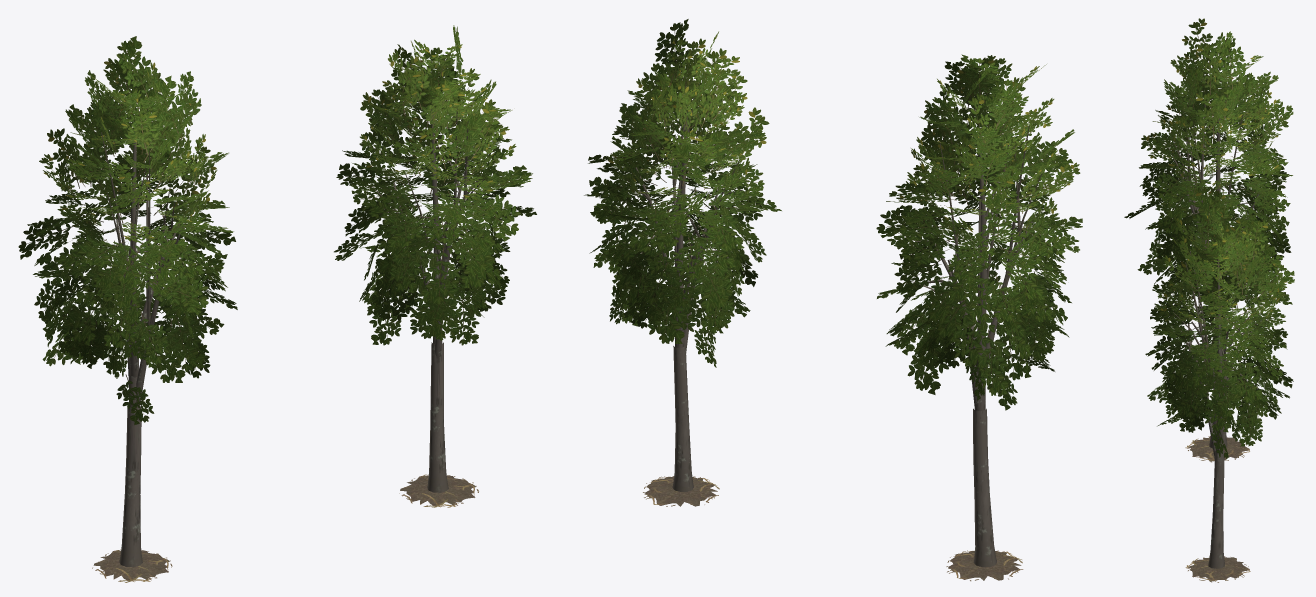
Rendered from street_tree_narrow.glb.
The picture shows the model from 3 angles, left to right: view 1: azimuth 30°, elevation 25°; view 2: azimuth 150°, elevation 25°; view 3: azimuth 270°, elevation 25°; orthographic projection. The views are drawn at different scales.
Visible parts, largest first — view 1: variant_a_lod0, variant_b_lod0; view 2: variant_a_lod0, variant_b_lod0; view 3: variant_b_lod0, variant_a_lod0.
Part boxes in pixels (x1,y1,x2,y2): variant_a_lod0: (18,36,237,582); variant_b_lod0: (334,25,536,507); variant_a_lod0: (876,54,1082,581); variant_b_lod0: (584,19,781,506); variant_b_lod0: (1145,186,1294,582); variant_a_lod0: (1124,18,1293,462).
Size of what is drawn, in the model's own units: 9.68 by 9.76 by 3.88.
Materials: 2 (2 with a texture image).
